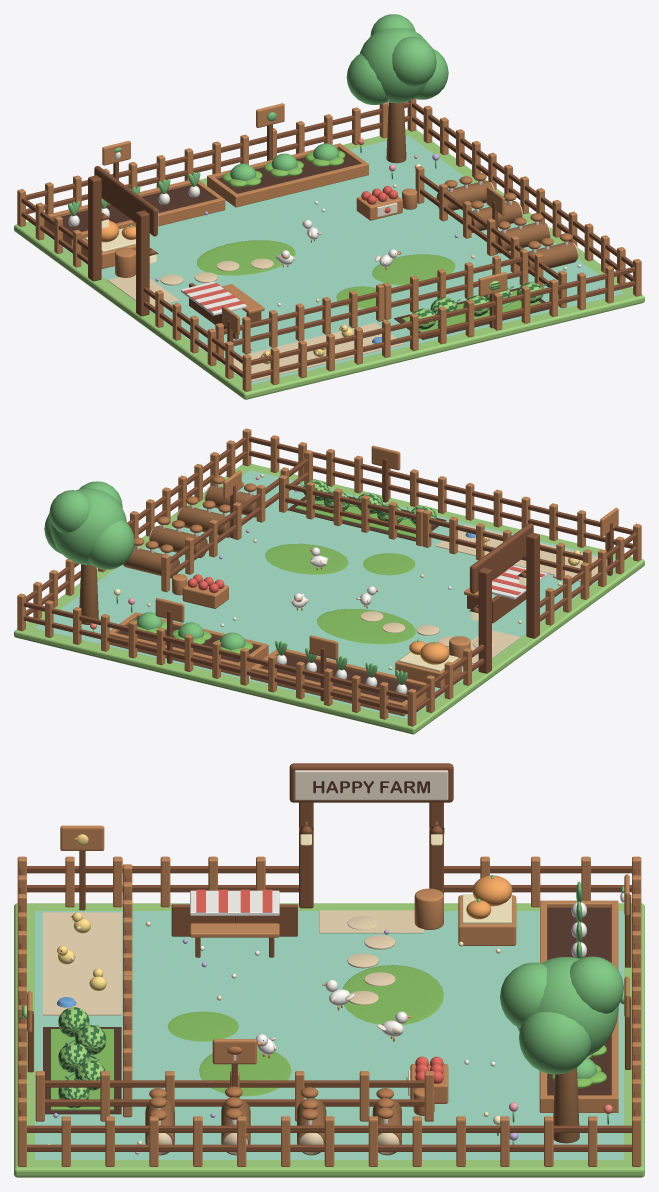
Rendered from room_farm.glb.
The picture shows the model from 3 angles, top to bottom: view 1: azimuth 30°, elevation 25°; view 2: azimuth 150°, elevation 25°; view 3: azimuth 270°, elevation 25°; orthographic projection. The views are drawn at different scales.
Parts seen in each view (by area): view 1: NAV_floor, floor, fence_S_posts, fence_S_rails, fence_E_posts, fence_N_posts, fence_N_rails, cabbagebed_edge, tree_leaves_0, fence_E_rails, floor_patch_0, penfence_posts (+30 smaller); view 2: NAV_floor, floor, fence_N_posts, fence_S_posts, fence_N_rails, fence_S_rails, fence_E_posts, tree_leaves_0, floor_patch_0, melonfence_posts, mushfence_posts, radishbed_edge (+37 smaller); view 3: NAV_floor, floor, fence_E_rails, fence_E_posts, pen_dirt, mushfence_rails, farmsign_face, floor_patch_0, tree_leaves_1, fence_W_a_rails, tree_leaves_0, mushfence_posts (+37 smaller).
Part boxes in pixels (box(x1,y1,x2,y2)): NAV_floor: box(34, 135, 624, 384); floor: box(14, 129, 644, 399); fence_S_posts: box(242, 259, 641, 391); fence_S_rails: box(251, 267, 635, 379); fence_E_posts: box(411, 99, 640, 283); fence_N_posts: box(17, 99, 415, 226); fence_N_rails: box(26, 102, 409, 213); cabbagebed_edge: box(207, 143, 368, 207); tree_leaves_0: box(360, 28, 427, 103); fence_E_rails: box(412, 102, 632, 281); floor_patch_0: box(197, 240, 295, 275); penfence_posts: box(215, 284, 384, 360); NAV_floor: box(34, 470, 615, 719); floor: box(14, 464, 644, 734); fence_N_posts: box(17, 593, 416, 725); fence_S_posts: box(243, 428, 641, 560); fence_N_rails: box(23, 601, 407, 713); fence_S_rails: box(249, 436, 632, 548); fence_E_posts: box(17, 428, 250, 630); tree_leaves_0: box(50, 488, 126, 564); floor_patch_0: box(317, 609, 415, 644); melonfence_posts: box(279, 475, 424, 546); mushfence_posts: box(161, 450, 312, 592); radishbed_edge: box(250, 649, 426, 716); NAV_floor: box(35, 911, 623, 1159); floor: box(14, 903, 644, 1177); fence_E_rails: box(27, 1125, 631, 1151); fence_E_posts: box(18, 1116, 641, 1166); pen_dirt: box(43, 912, 121, 1015); mushfence_rails: box(45, 1080, 424, 1106); farmsign_face: box(294, 770, 448, 800); floor_patch_0: box(342, 965, 443, 1025); tree_leaves_1: box(519, 1012, 590, 1074); fence_W_a_rails: box(27, 866, 298, 892); tree_leaves_0: box(517, 957, 618, 1056); mushfence_posts: box(35, 1071, 433, 1121).
Size of the model in its own units: 6 by 2.02 by 6.
2 materials, 2 textured.
